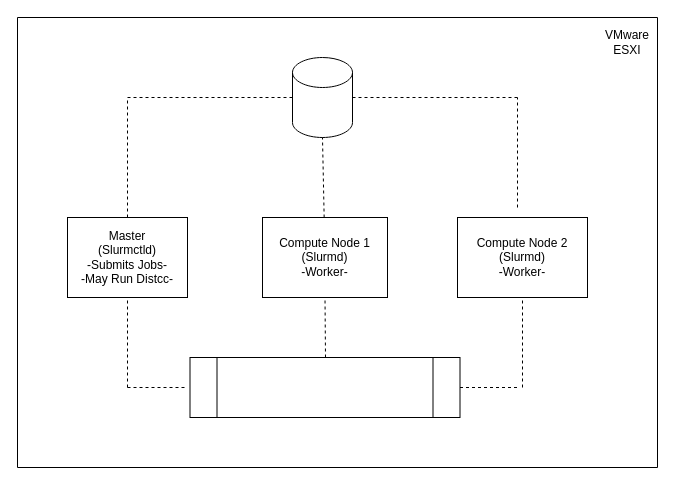
Image size: 676x486. Some labels were removed from this diagram. Here are the shapes that lost their labels. From the top down, the centre of each, then its label:
the point at 322,97: NFS Storage
the point at 324,387: Slurm Job Management and Execution
